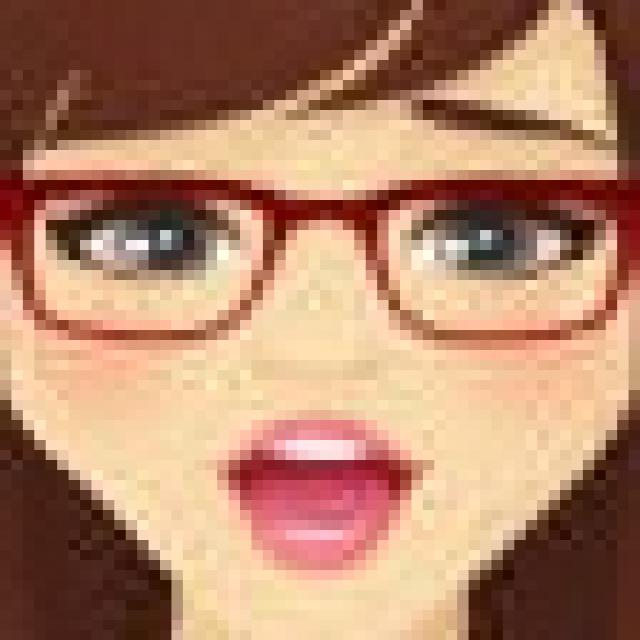Anxiety: (11, 0, 640, 630)
